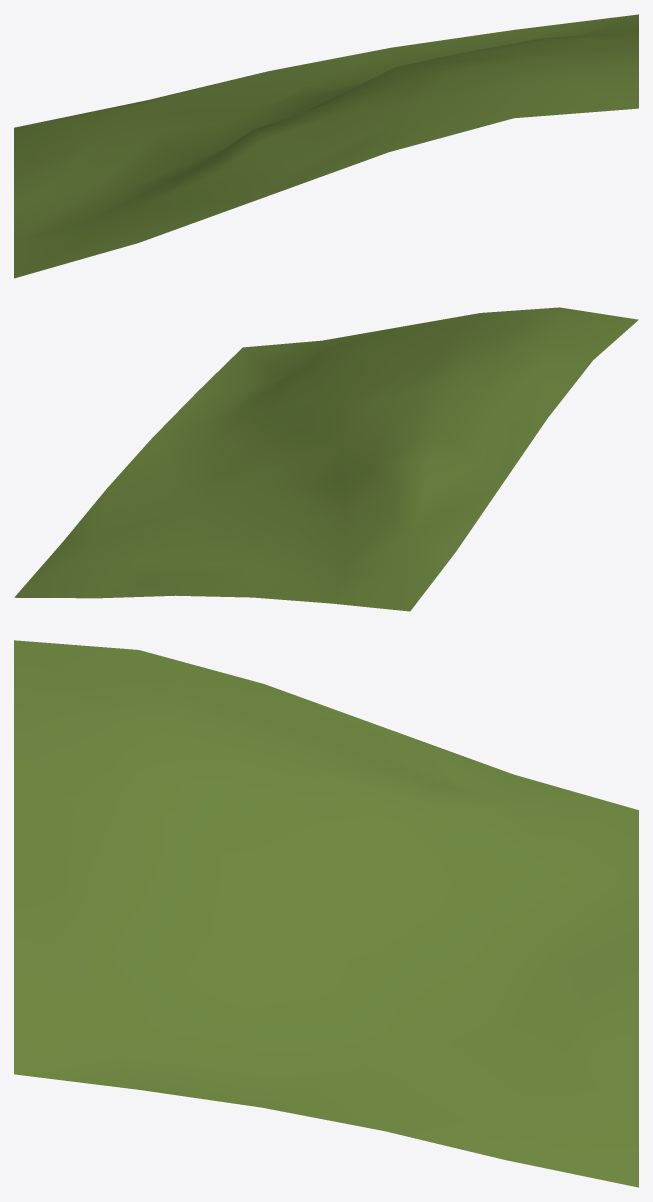
The model's file is rpgpp_ag_terrain_hill_03b_10x10m_2-2m.fbx.
3 views of the same model, one above another, from view 1: azimuth 90°, elevation 25°; view 2: azimuth 150°, elevation 25°; view 3: azimuth 270°, elevation 25° (orthographic). The views are drawn at different scales.
Visible parts, largest first — view 1: rpgpp_ag_terrain_hill_03b_10x10m_2-2m; view 2: rpgpp_ag_terrain_hill_03b_10x10m_2-2m; view 3: rpgpp_ag_terrain_hill_03b_10x10m_2-2m.
Boxes of the visible parts, x1=… form: rpgpp_ag_terrain_hill_03b_10x10m_2-2m: x1=14, y1=14, x2=638, y2=278; rpgpp_ag_terrain_hill_03b_10x10m_2-2m: x1=14, y1=307, x2=638, y2=611; rpgpp_ag_terrain_hill_03b_10x10m_2-2m: x1=14, y1=640, x2=638, y2=1187.
Bounding box in the file's own units: 10 × 5 × 10.
